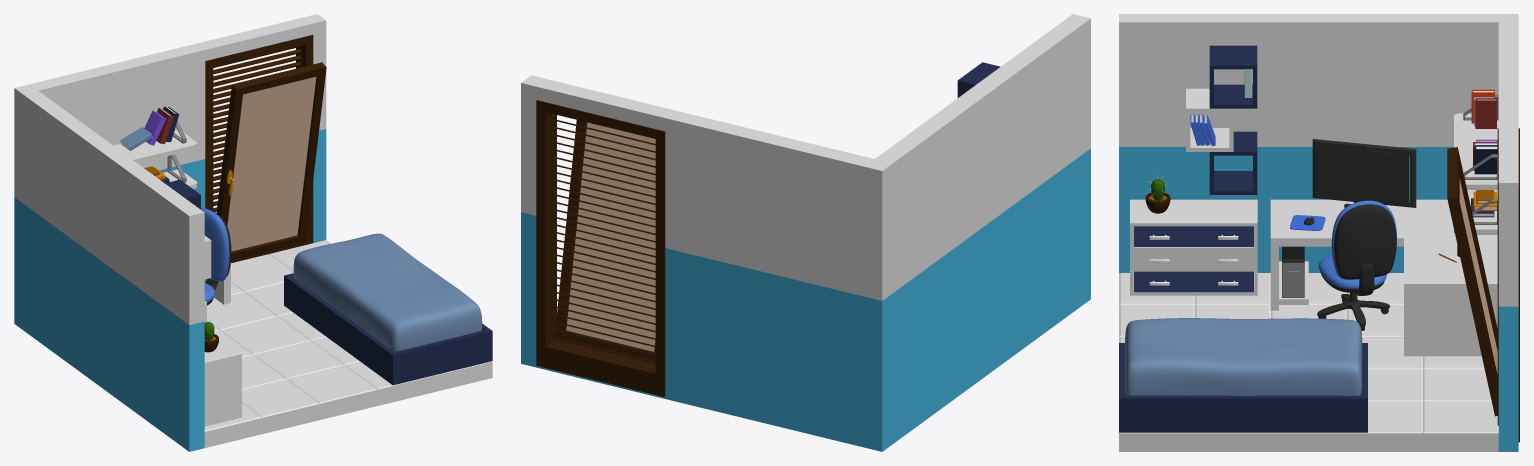
File: bedroom.fbx
3 views of the same model, side by side, from view 1: azimuth 30°, elevation 25°; view 2: azimuth 150°, elevation 25°; view 3: azimuth 270°, elevation 25° (orthographic). The views are drawn at different scales.
Visible parts, largest first — view 1: Cube.003, Cube.001, Cube.020, Cube.022, Cube.010, Cube.004, Cube.019, Cube.014, Cube.021, Cube.052, Cube.042, Cube.028 (+1 smaller); view 2: Cube.003, Cube.022, Cube.019, Cube.021, Cube.004, Cube.002; view 3: Cube.003, Cube.001, Cube.020, Cube.024, Cube.014, Cube.010, Cube.052, Cube.002, Cube, Cube.004, Cube.042, Cube.013 (+7 smaller).
Boxes of the visible parts, bbox=[...] form: Cube.003: bbox=[14, 14, 326, 451]; Cube.001: bbox=[204, 240, 492, 447]; Cube.020: bbox=[293, 233, 482, 351]; Cube.022: bbox=[227, 77, 316, 251]; Cube.010: bbox=[284, 273, 492, 385]; Cube.004: bbox=[216, 62, 326, 260]; Cube.019: bbox=[205, 35, 313, 263]; Cube.014: bbox=[204, 337, 241, 426]; Cube.021: bbox=[213, 46, 301, 211]; Cube.052: bbox=[201, 207, 231, 305]; Cube.042: bbox=[120, 106, 179, 183]; Cube.028: bbox=[113, 130, 197, 163]; Cube.003: bbox=[521, 14, 1090, 451]; Cube.022: bbox=[566, 122, 655, 351]; Cube.019: bbox=[536, 100, 665, 396]; Cube.021: bbox=[550, 118, 655, 362]; Cube.004: bbox=[554, 120, 655, 363]; Cube.002: bbox=[957, 62, 1000, 97]; Cube.003: bbox=[1119, 14, 1518, 451]; Cube.001: bbox=[1119, 273, 1498, 451]; Cube.020: bbox=[1125, 318, 1362, 395]; Cube.024: bbox=[1270, 199, 1497, 356]; Cube.014: bbox=[1130, 199, 1257, 295]; Cube.010: bbox=[1119, 343, 1367, 432]; Cube.052: bbox=[1317, 200, 1396, 326]; Cube.002: bbox=[1186, 45, 1257, 194]; Cube: bbox=[1319, 146, 1409, 202]; Cube.004: bbox=[1447, 147, 1497, 416]; Cube.042: bbox=[1190, 69, 1497, 217]; Cube.013: bbox=[1312, 139, 1416, 207].
Size of the model in its own units: 200 by 149 by 201.
